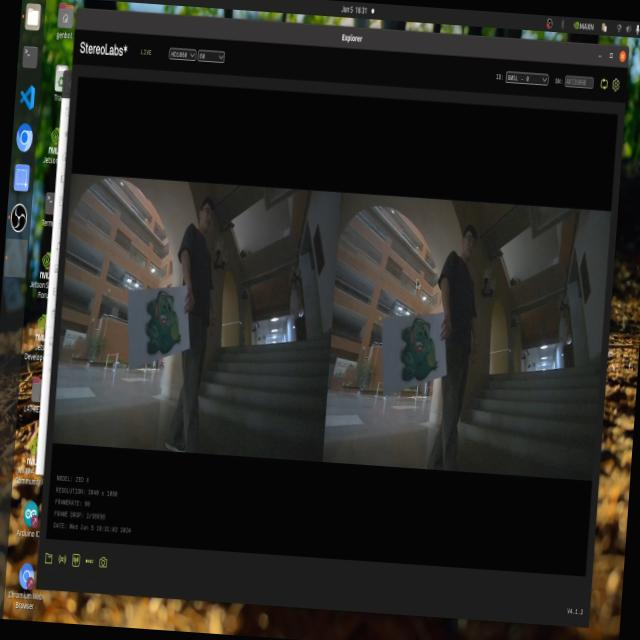green: (398, 312, 446, 398), (148, 303, 188, 360)
